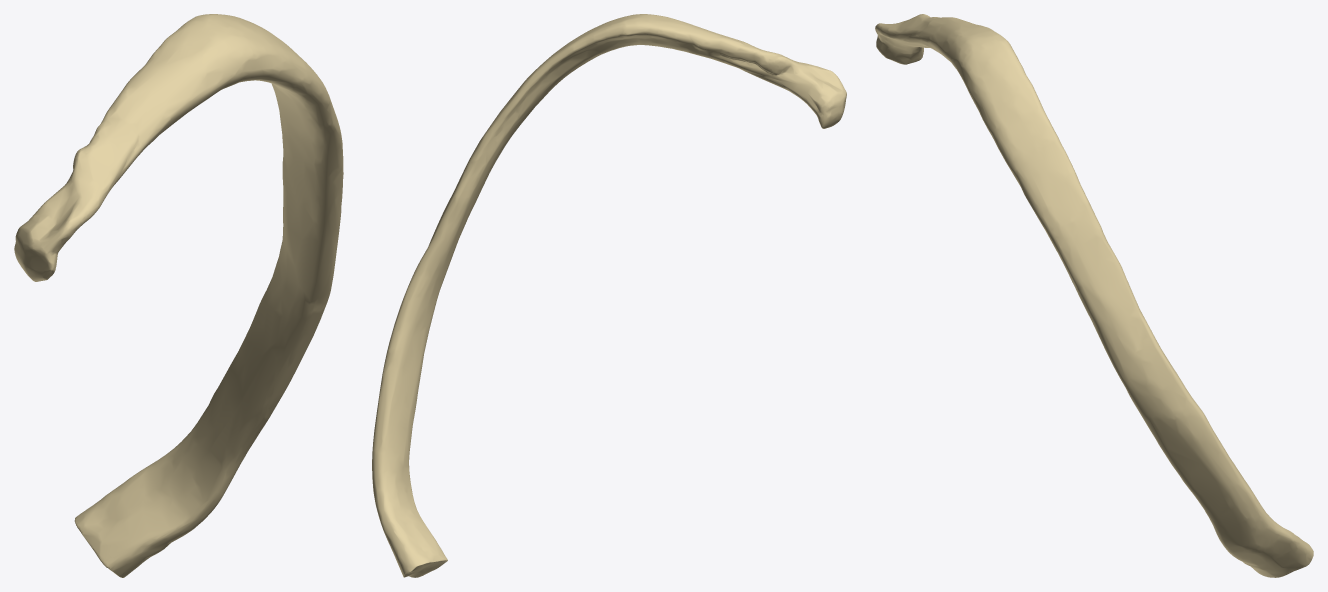
3 renders of one model, left to right at view 1: azimuth 30°, elevation 25°; view 2: azimuth 150°, elevation 25°; view 3: azimuth 270°, elevation 25°, orthographic. The views are drawn at different scales.
Parts seen in each view (by area): view 1: 左侧第七肋; view 2: 左侧第七肋; view 3: 左侧第七肋.
Boxes of the visible parts, x1=… form: 左侧第七肋: x1=14, y1=14, x2=343, y2=577; 左侧第七肋: x1=372, y1=14, x2=846, y2=577; 左侧第七肋: x1=875, y1=14, x2=1313, y2=577.
Bounding box in the file's own units: 0.1845 × 0.2676 × 0.2127.
